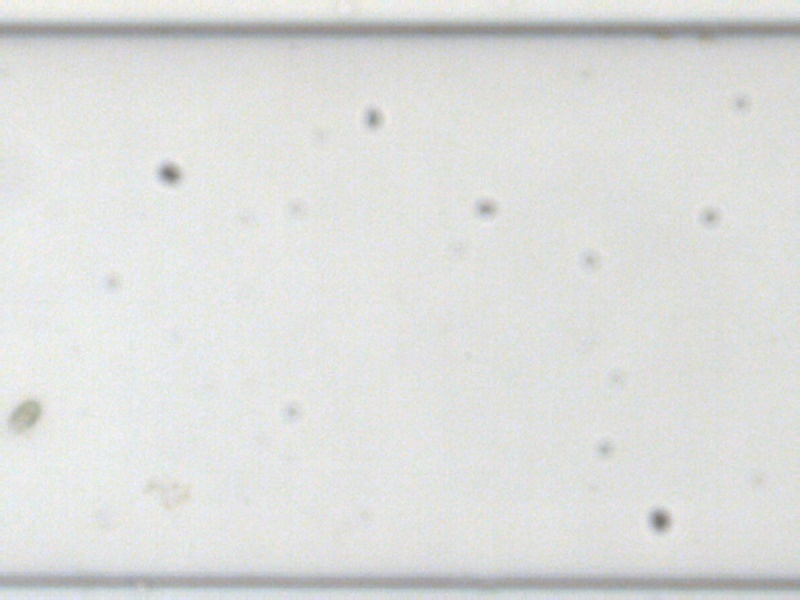Dunaliella salina: (4, 395, 43, 435)
